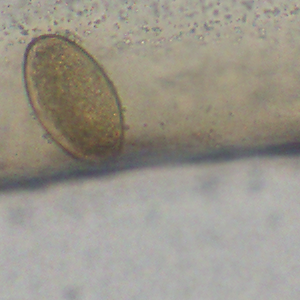Fasciola_hepatica_egg: (22, 33, 125, 166)
